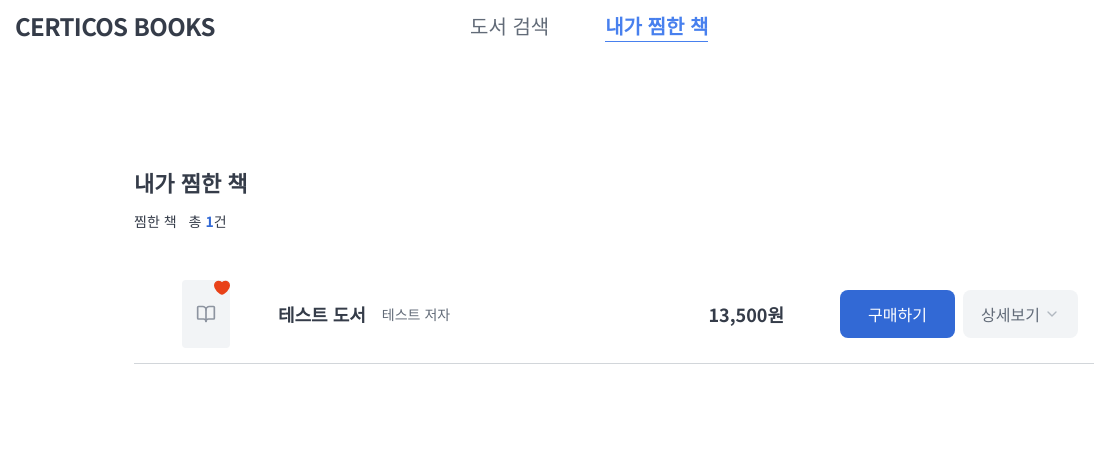
Test: 찜한 책 페이지 › 저장된 도서를 검색 API 없이 표시하고 마지막 해제 시 빈 화면으로 바뀐다
expect the heading "테스트 도서" is shown: met, box [278,304,366,322]
Click the button named "테스트 도서 찜 해제".
click(222, 288)  # box [214,280,230,296]
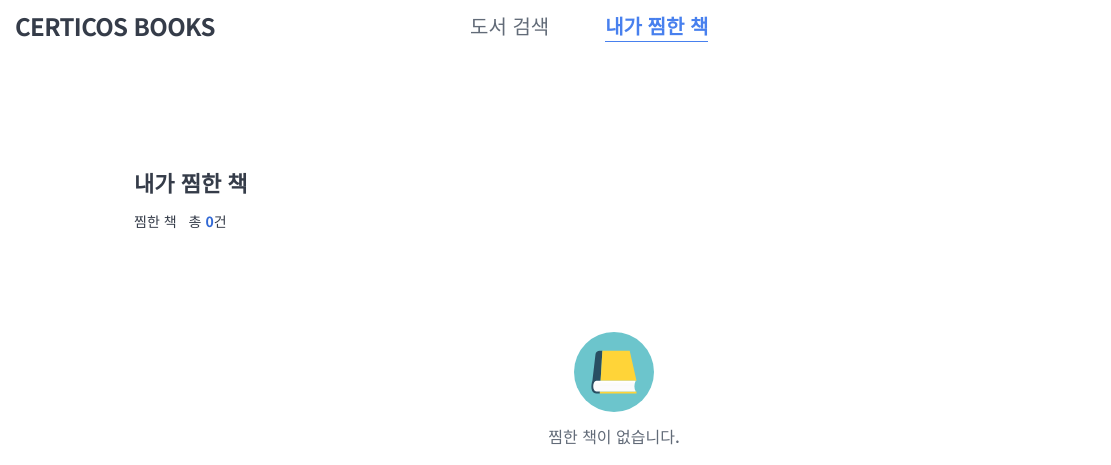
expect the text "찜한 책이 없습니다." is shown: met, box [548,424,680,448]
expect the heading "테스트 도서" is gone: met
